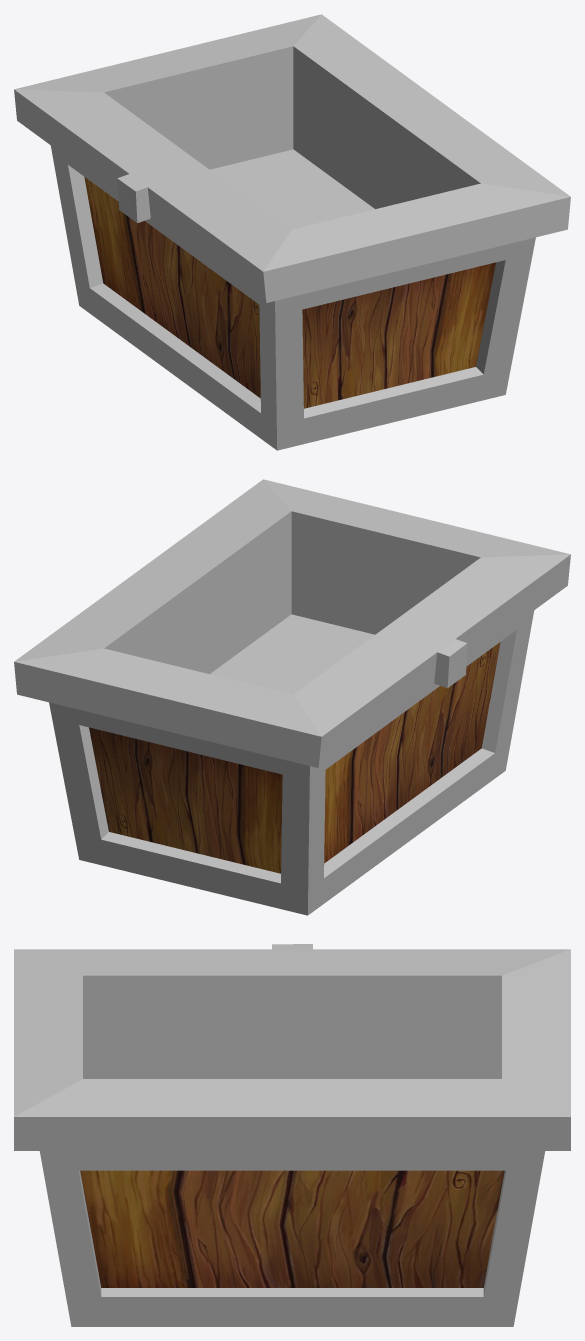
The model's file is chest_bottom.FBX.
The picture shows the model from 3 angles, top to bottom: view 1: azimuth 30°, elevation 25°; view 2: azimuth 150°, elevation 25°; view 3: azimuth 270°, elevation 25°; orthographic projection. The views are drawn at different scales.
Visible parts, largest first — view 1: chest_bottom; view 2: chest_bottom; view 3: chest_bottom.
Boxes of the visible parts, x1,y1,x2,y2 form: chest_bottom: (14,14,570,450); chest_bottom: (14,479,570,915); chest_bottom: (14,944,570,1326).
Size of the model in its own units: 23.65 by 15 by 31.92.
